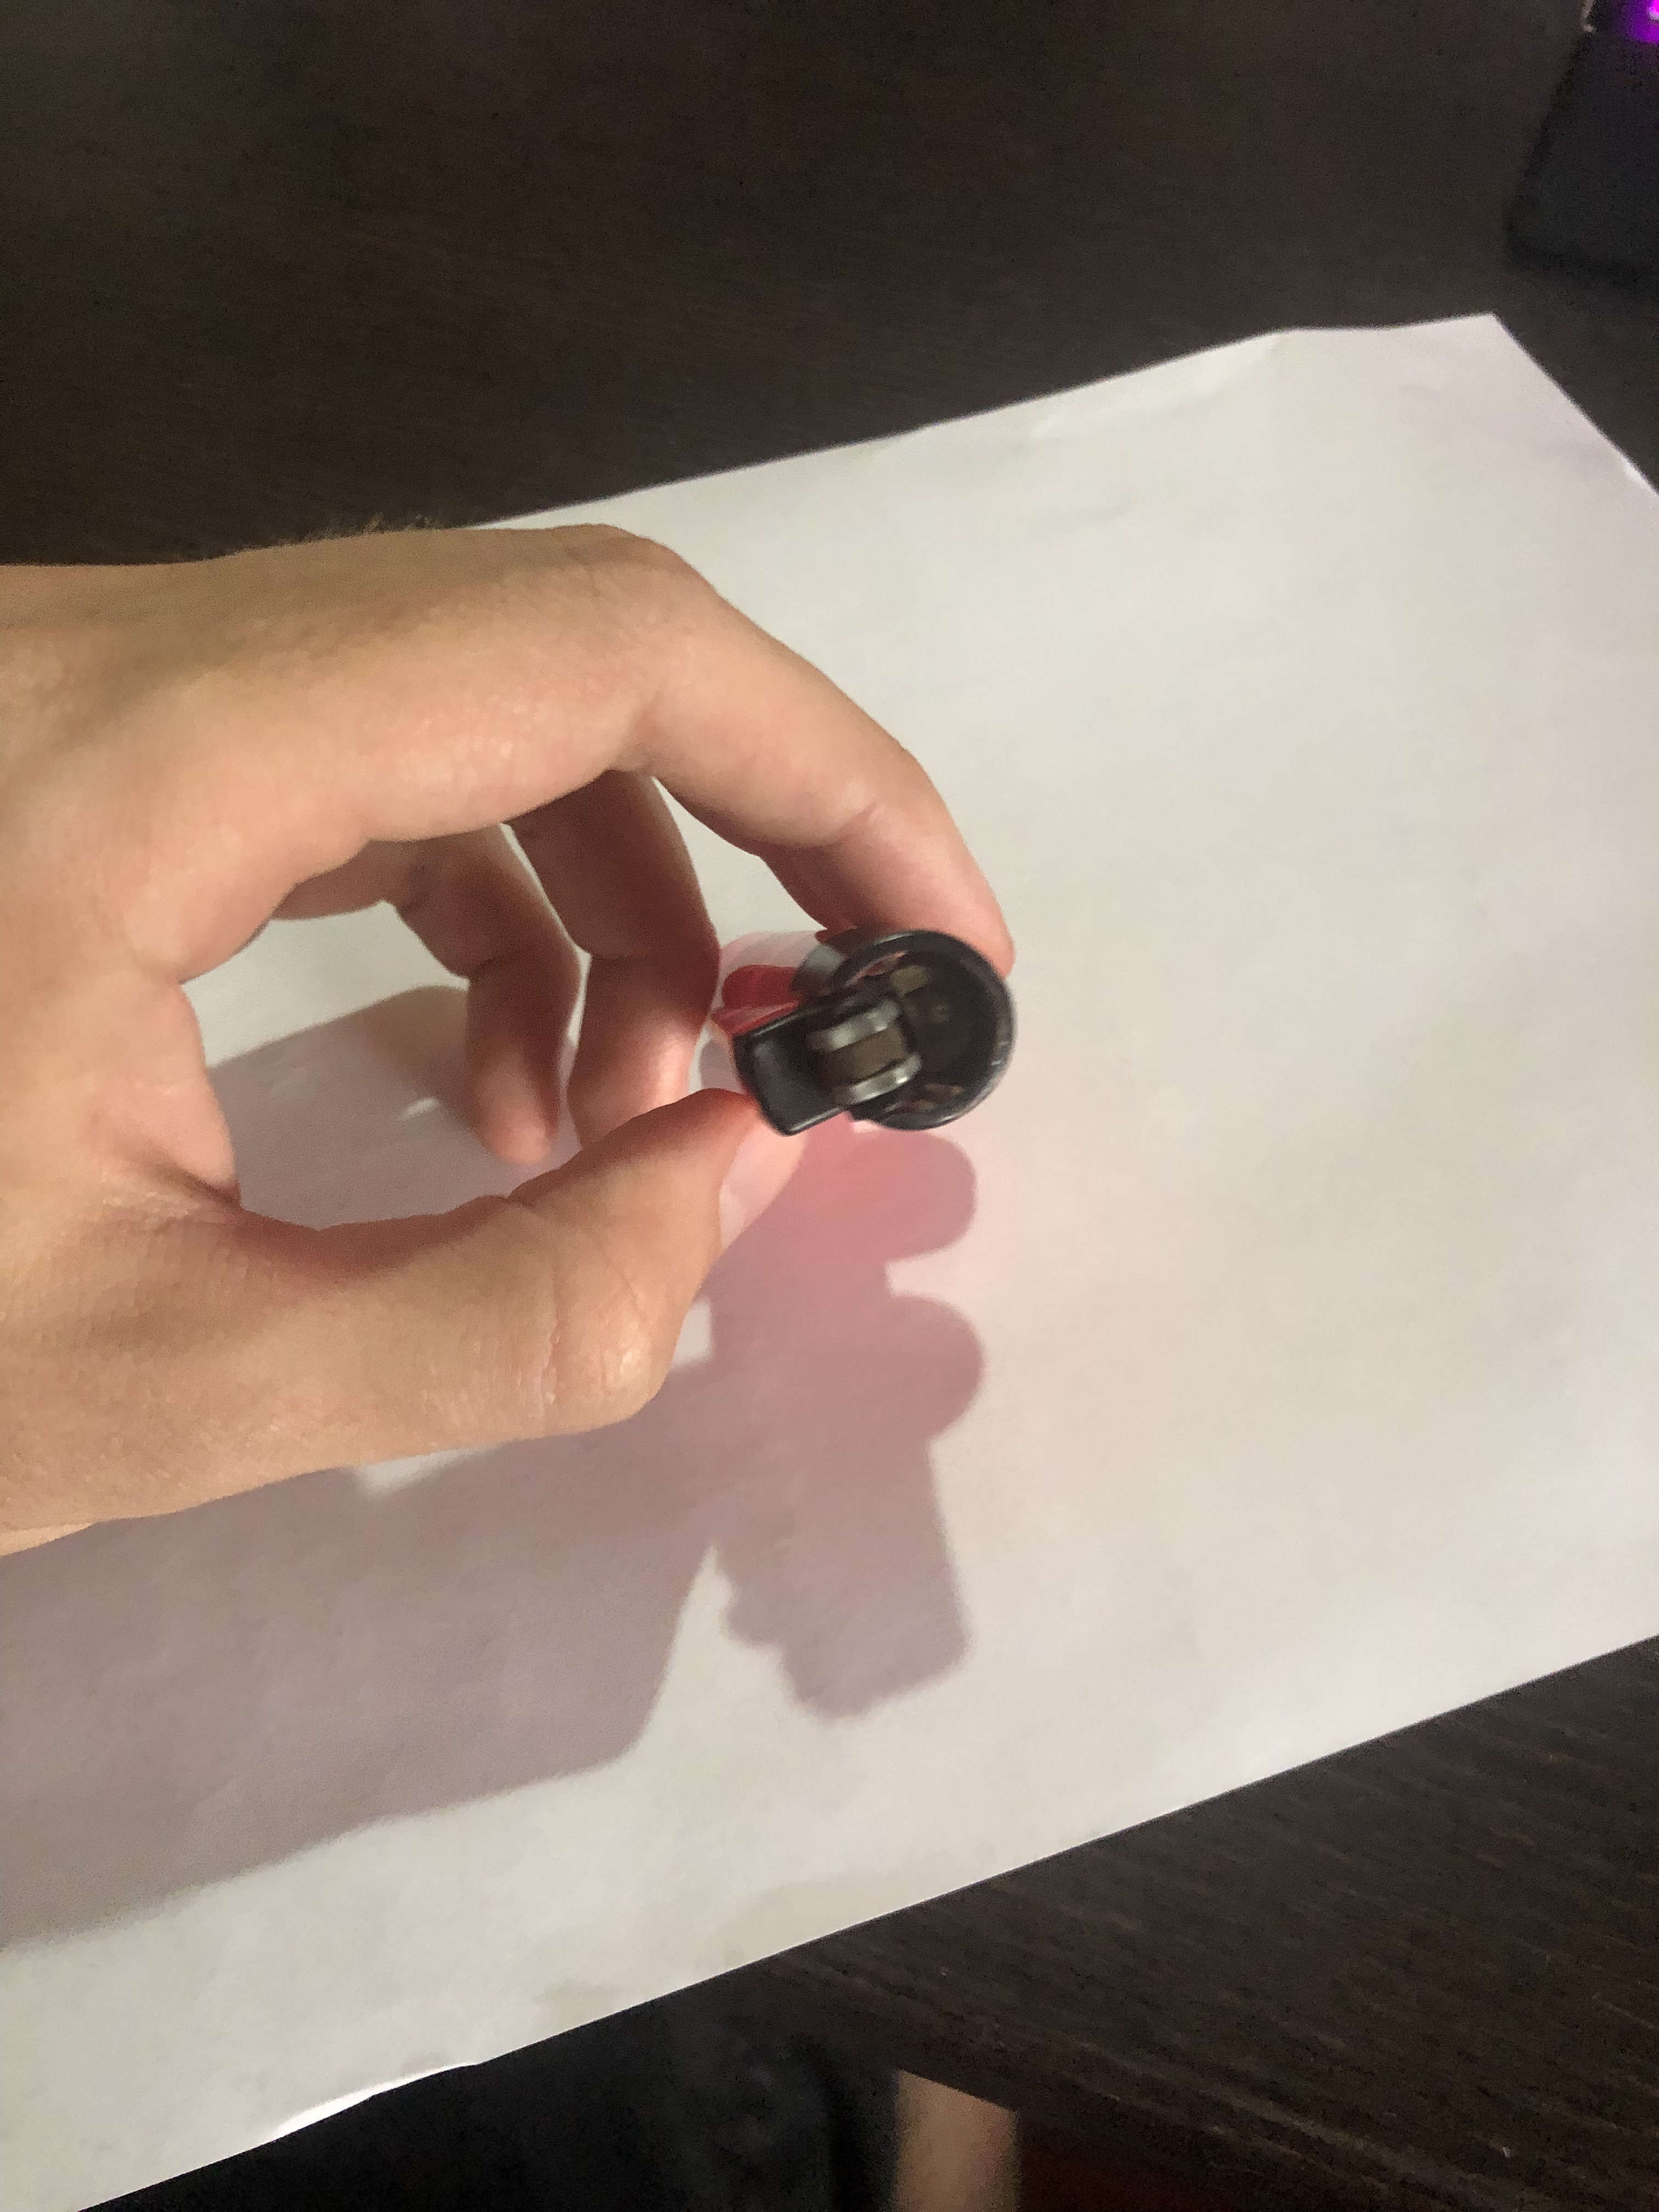Mechero: (702, 894, 1061, 1155)
